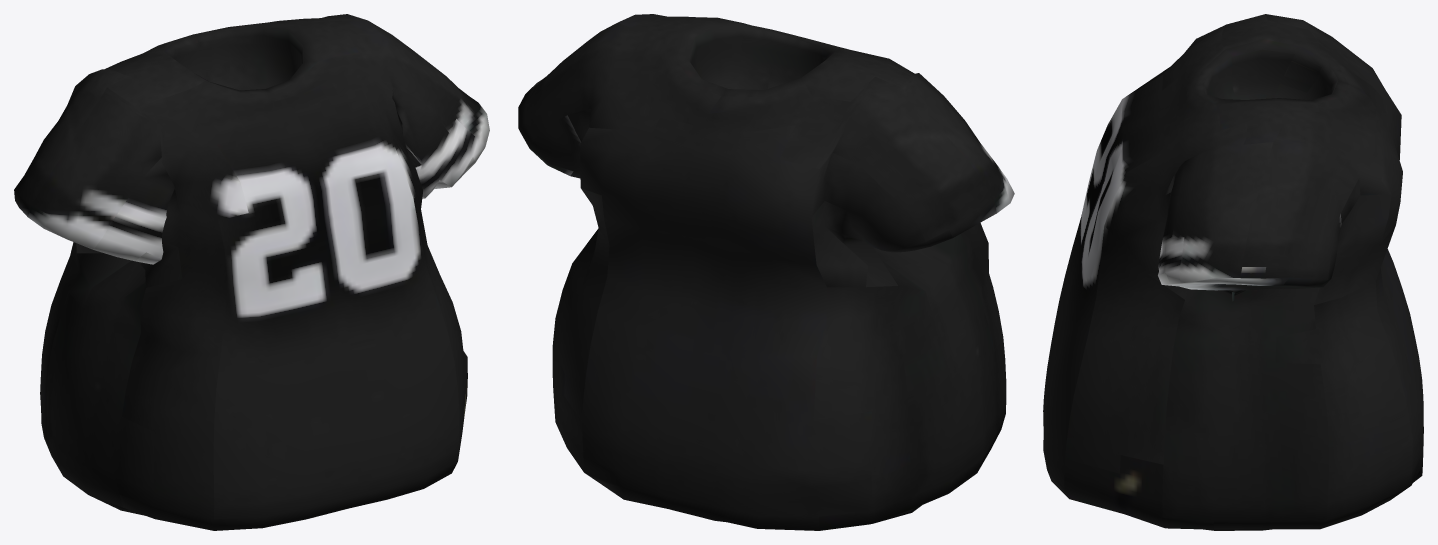
The model's file is Hirono shirt.glb.
The picture shows the model from 3 angles, left to right: view 1: azimuth 30°, elevation 25°; view 2: azimuth 150°, elevation 25°; view 3: azimuth 270°, elevation 25°; orthographic projection. The views are drawn at different scales.
Visible parts, largest first — view 1: tripo_node_24d48bc7.005; view 2: tripo_node_24d48bc7.005; view 3: tripo_node_24d48bc7.005.
Part boxes in pixels (<box>): tripo_node_24d48bc7.005: <box>14,14,489,530</box>; tripo_node_24d48bc7.005: <box>518,14,1014,530</box>; tripo_node_24d48bc7.005: <box>1043,14,1423,530</box>.
Bounding box in the file's own units: 0.5255 × 0.4572 × 0.396.
Materials: 1 (1 with a texture image).
